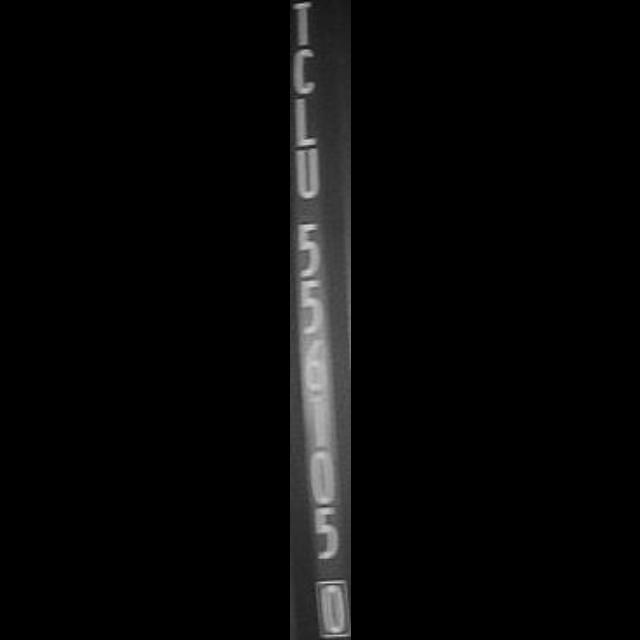0: (304, 446, 342, 508), (316, 580, 350, 640)
1: (298, 390, 338, 446)
5: (304, 507, 346, 568), (290, 215, 324, 282), (290, 280, 330, 336)
6: (295, 335, 337, 395)
c: (290, 46, 324, 98)
i: (290, 0, 324, 46)
l: (289, 93, 327, 147)
u: (289, 151, 327, 201)
